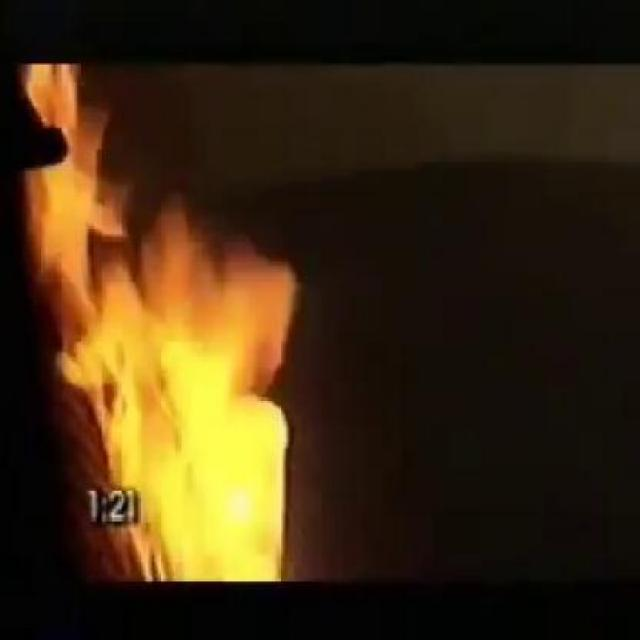fire: (16, 49, 316, 488), (86, 530, 312, 576)
